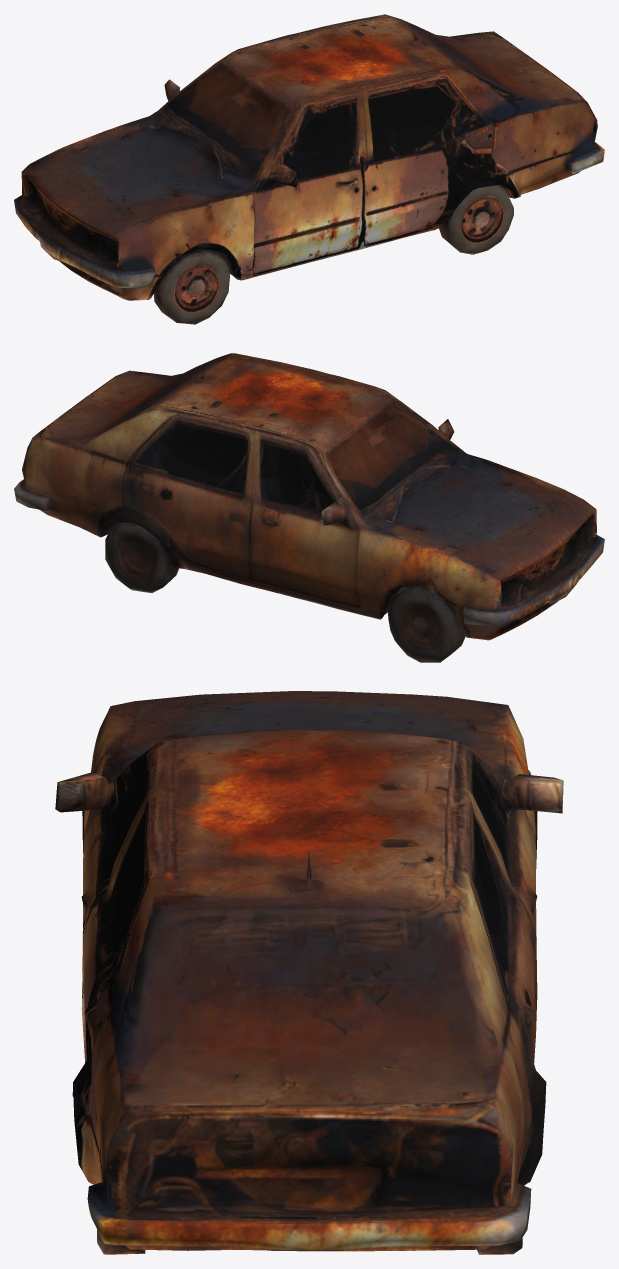
File: carA.glb
3 renders of one model, top to bottom at view 1: azimuth 30°, elevation 25°; view 2: azimuth 150°, elevation 25°; view 3: azimuth 270°, elevation 25°, orthographic. The views are drawn at different scales.
Size of the model in its own units: 2 by 0.7276 by 0.8749.
1 material, 1 textured.
